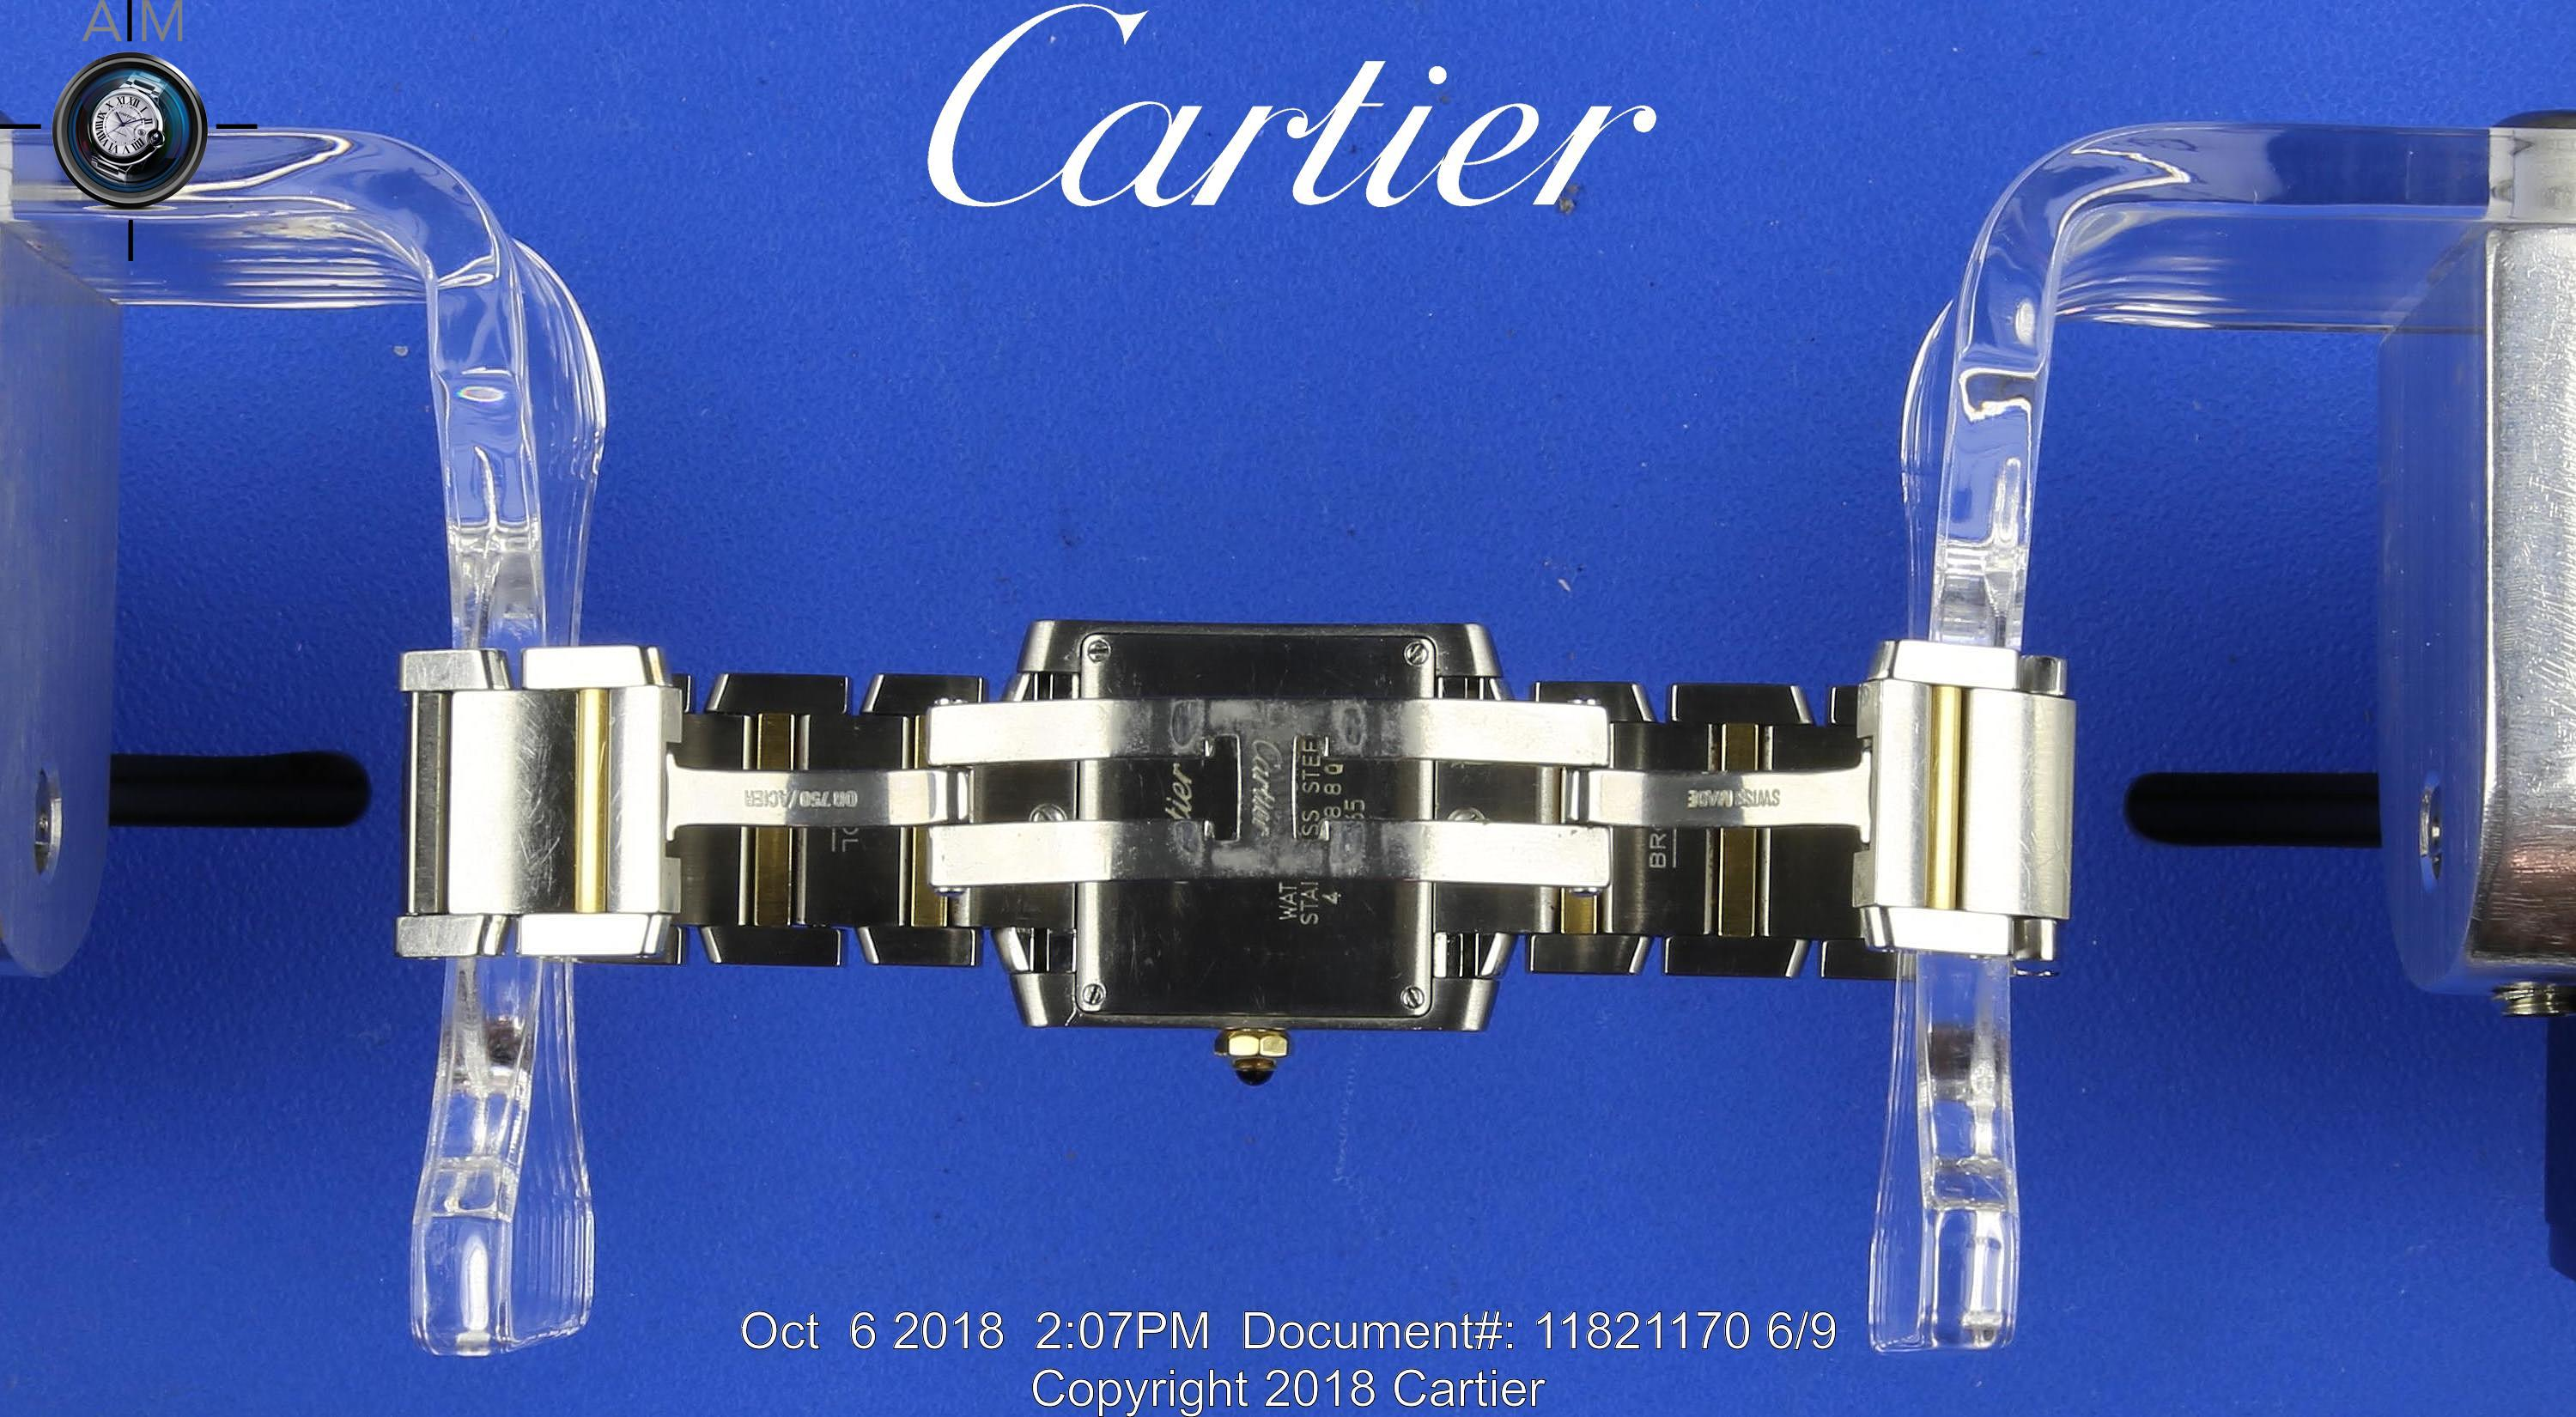watchback: (1060, 633, 1449, 1030)
